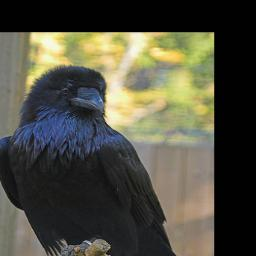Crow: (0, 64, 194, 256)
